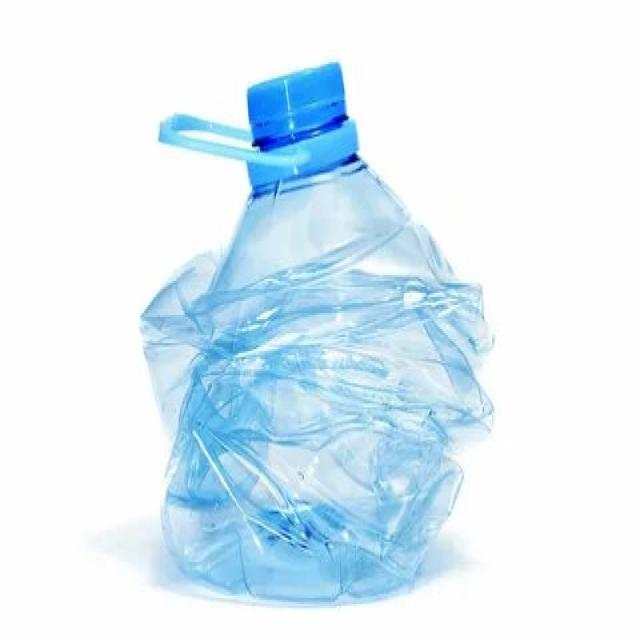blue: (141, 152, 497, 602)
